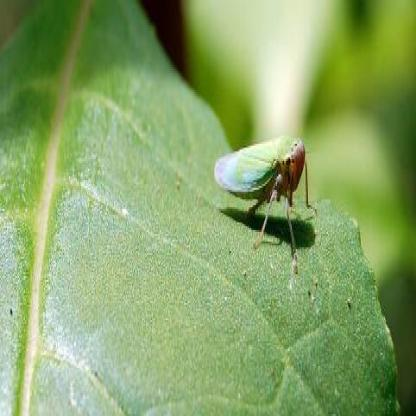Green-Leafhopper: (213, 126, 318, 268)
